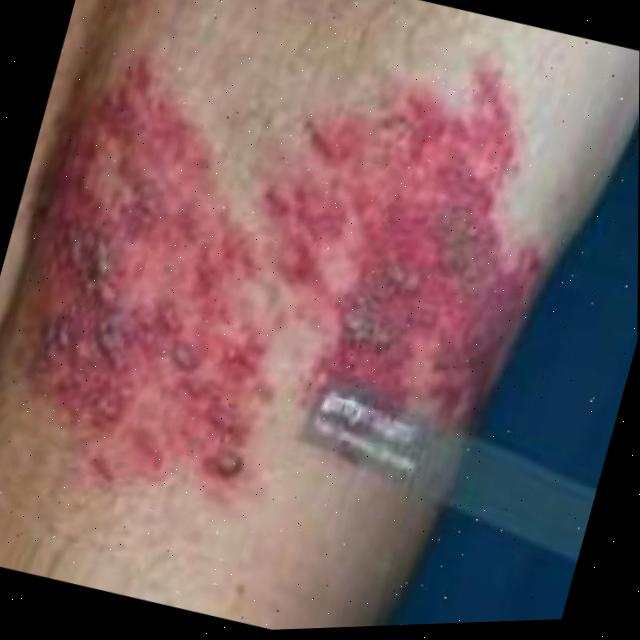Shingles: (214, 17, 588, 458), (0, 41, 348, 513)
